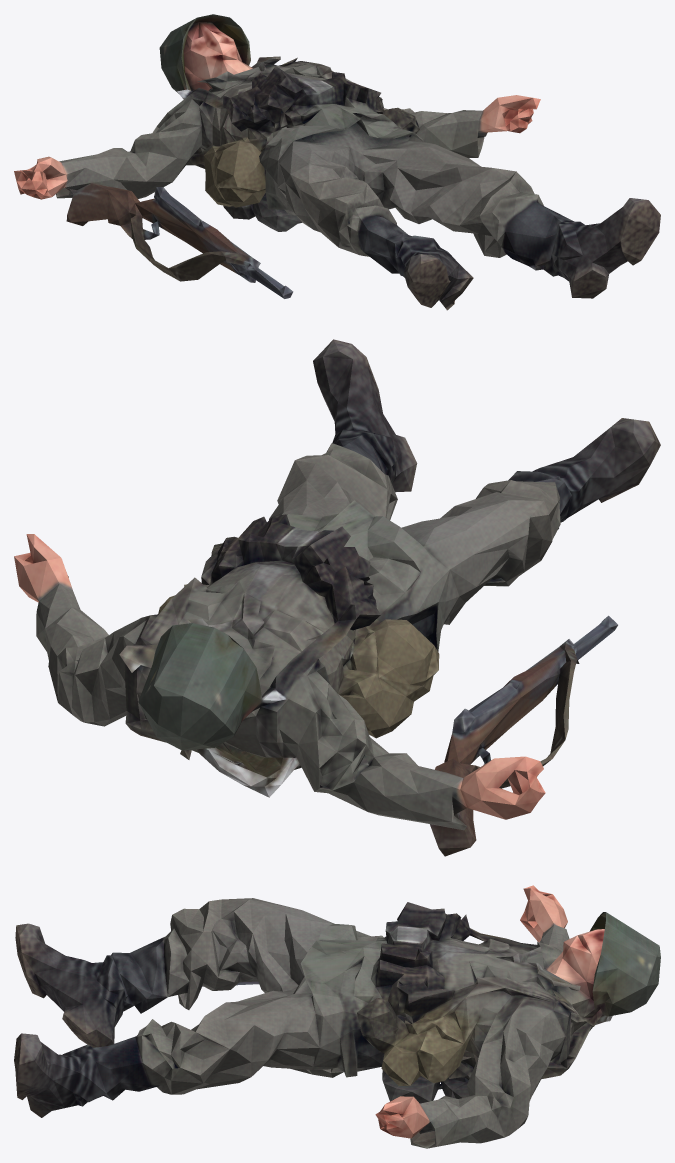
The model's file is inf_dead.obj.
The picture shows the model from 3 angles, top to bottom: view 1: azimuth 30°, elevation 25°; view 2: azimuth 150°, elevation 25°; view 3: azimuth 270°, elevation 25°; orthographic projection. The views are drawn at different scales.
Parts seen in each view (by area): view 1: inf_dead; view 2: inf_dead; view 3: inf_dead.
Part boxes in pixels (<box>): inf_dead: <box>14,14,660,310</box>; inf_dead: <box>14,339,660,856</box>; inf_dead: <box>14,885,660,1148</box>.
Size of the model in its own units: 1.61 by 0.5547 by 1.85.
1 material, 1 textured.
